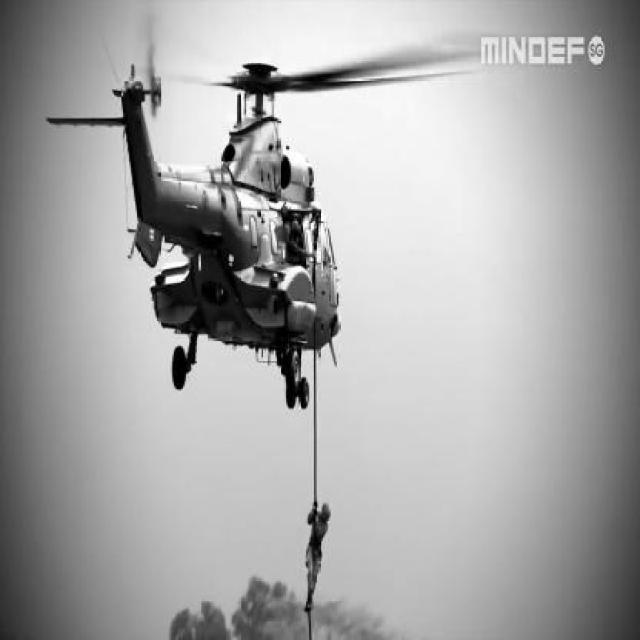Helicopter: (48, 28, 511, 412)
